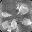people: (16, 4, 29, 16), (20, 18, 32, 26), (1, 20, 10, 29), (1, 11, 12, 18), (11, 19, 18, 30)
